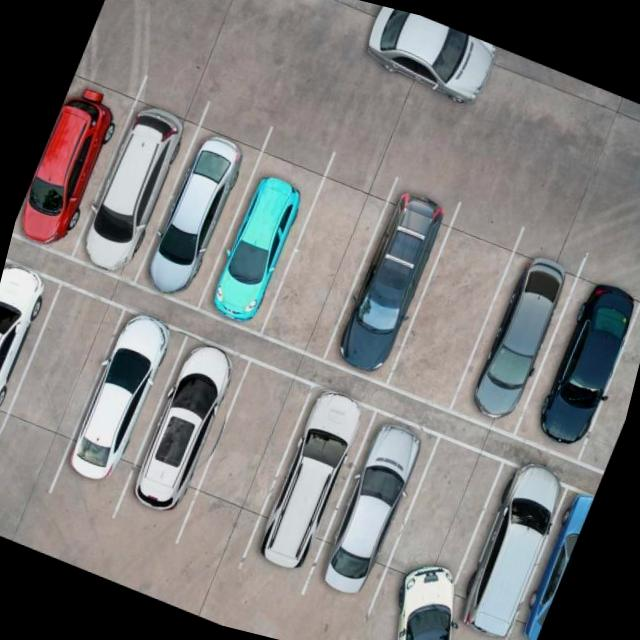car: (130, 110, 267, 312), (509, 264, 640, 473), (450, 230, 586, 431), (308, 405, 442, 602), (10, 64, 142, 263), (73, 86, 206, 280), (440, 449, 573, 640), (64, 304, 190, 503), (330, 181, 458, 376), (205, 141, 332, 334), (249, 381, 377, 572), (128, 335, 250, 521), (507, 477, 596, 640), (0, 258, 65, 451)
free: (386, 205, 516, 416), (263, 154, 397, 356), (378, 430, 507, 624), (0, 283, 121, 485), (184, 351, 311, 540), (578, 288, 640, 479)
